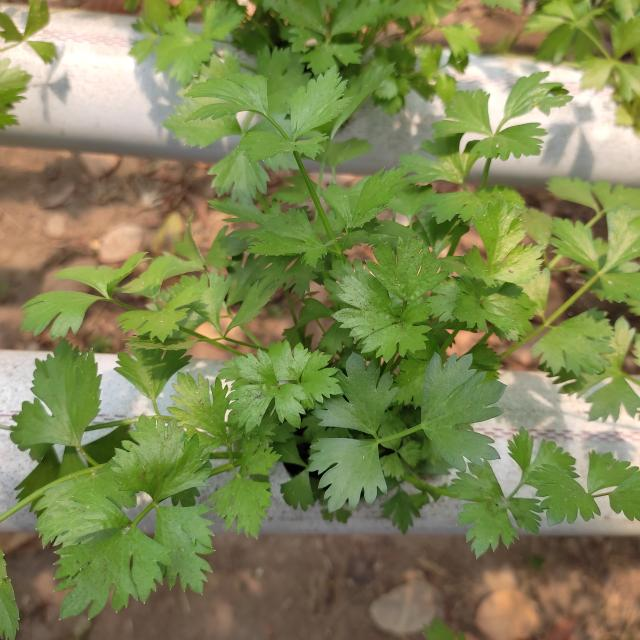Wet Waste: (39, 70, 607, 600)
